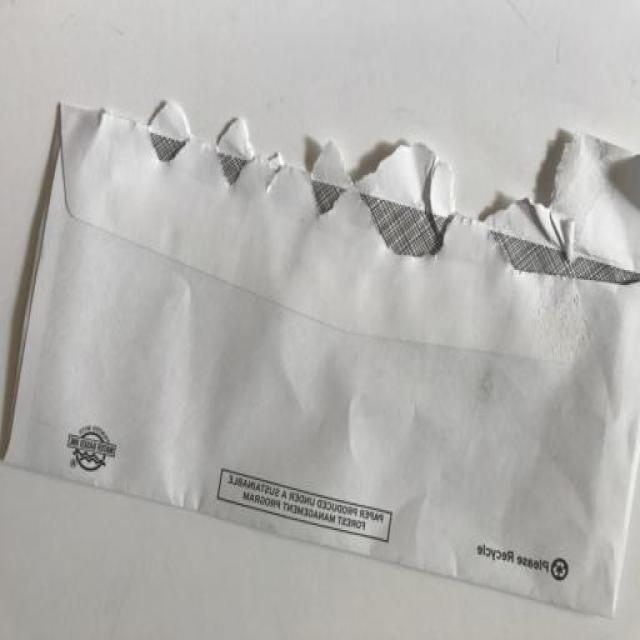paper: (1, 97, 640, 615)
